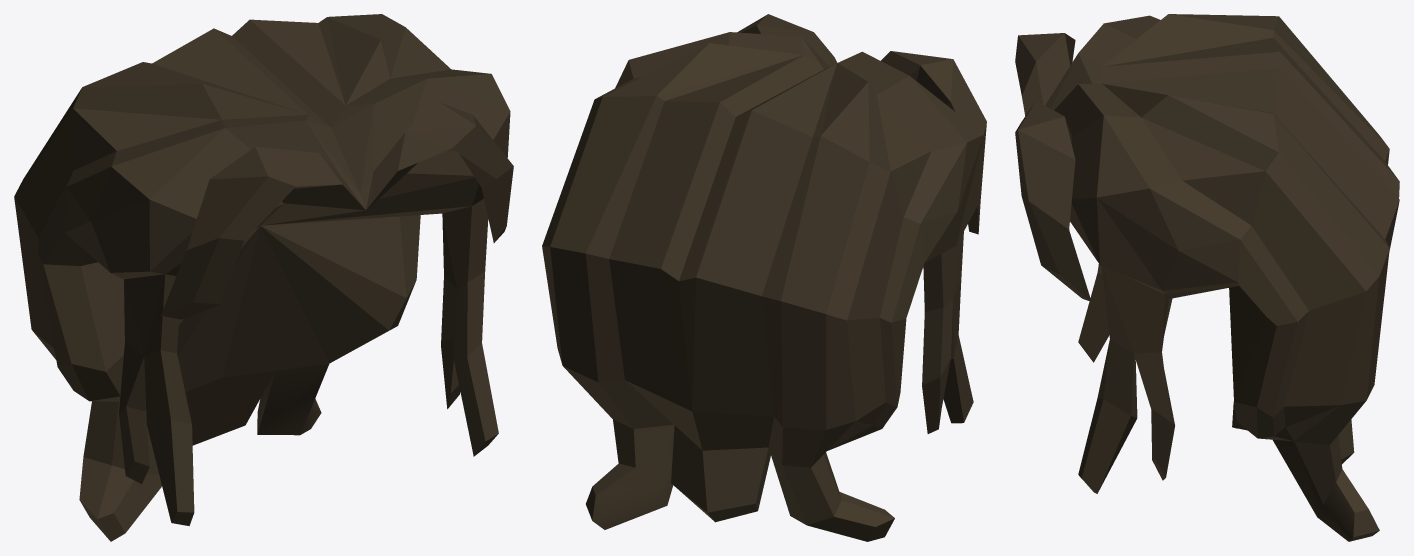
The model's file is SM_Chr_Attach_Hair_Female_04.fbx.
3 renders of one model, left to right at view 1: azimuth 30°, elevation 25°; view 2: azimuth 150°, elevation 25°; view 3: azimuth 270°, elevation 25°, orthographic. The views are drawn at different scales.
Visible parts, largest first — view 1: SM_Chr_Attach_Hair_Female_04; view 2: SM_Chr_Attach_Hair_Female_04; view 3: SM_Chr_Attach_Hair_Female_04.
Boxes of the visible parts, left/top/right/bottom form: SM_Chr_Attach_Hair_Female_04: left=14, top=14, right=513, bottom=541; SM_Chr_Attach_Hair_Female_04: left=542, top=14, right=986, bottom=541; SM_Chr_Attach_Hair_Female_04: left=1015, top=14, right=1399, bottom=541.
Bounding box in the file's own units: 28.18 × 32.54 × 25.82.
